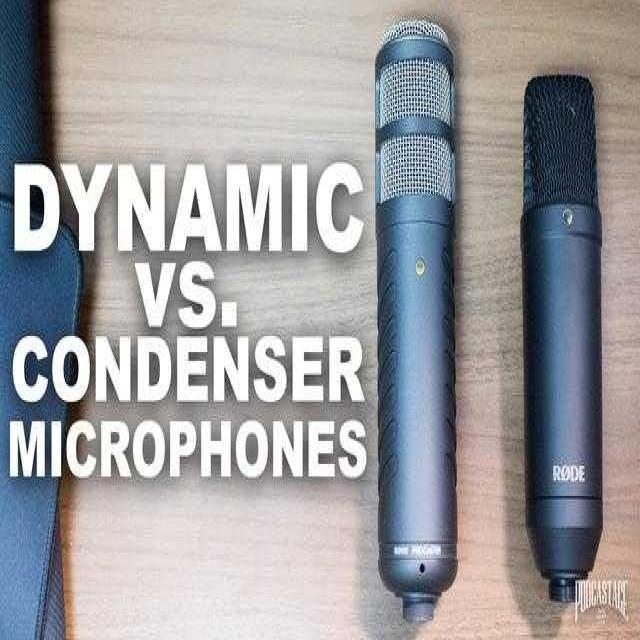microphone: (372, 17, 460, 607), (519, 45, 611, 601)
